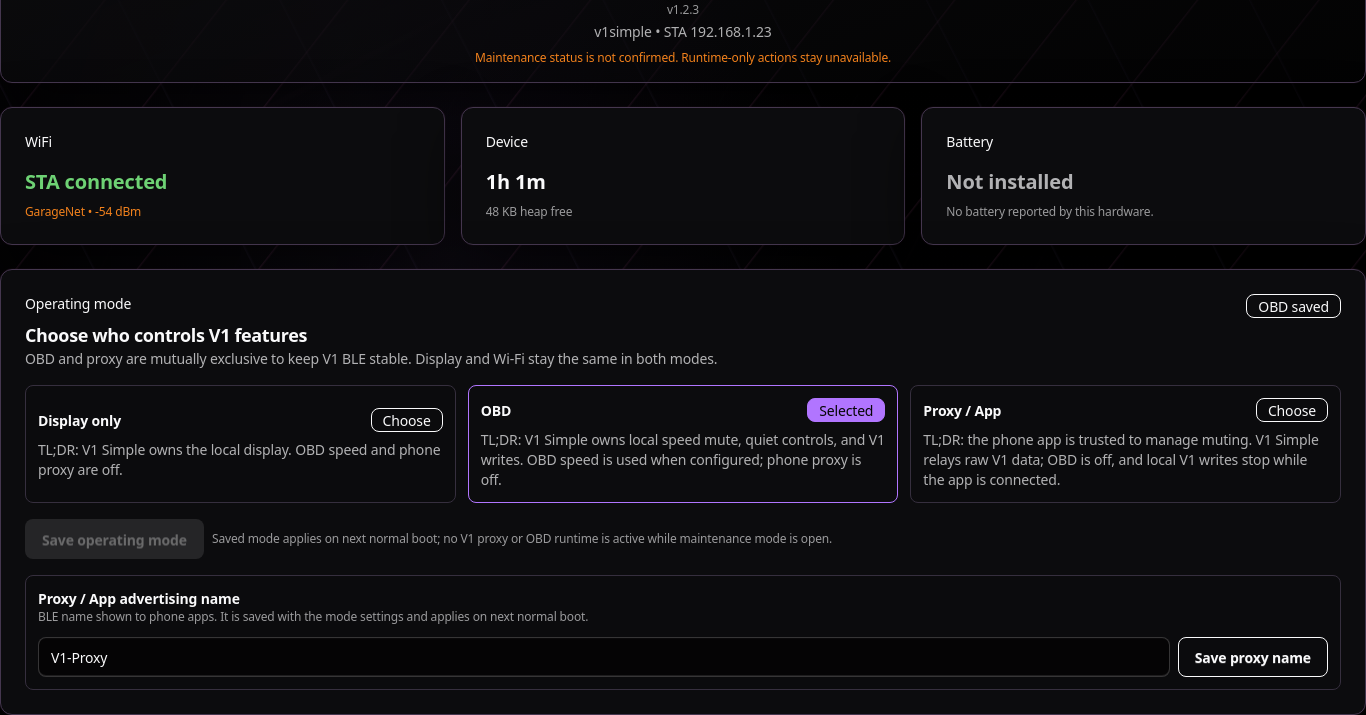
Test: dashboard route page › saves Proxy / App mode explicitly by disabling OBD before enabling proxy
The image size is (1366, 715).
(page scrolled)
Expected: the text "OBD saved" is shown, [1246,294,1341,318]
Click the button "Proxy / App": x=1126, y=444 [910,385,1341,503]
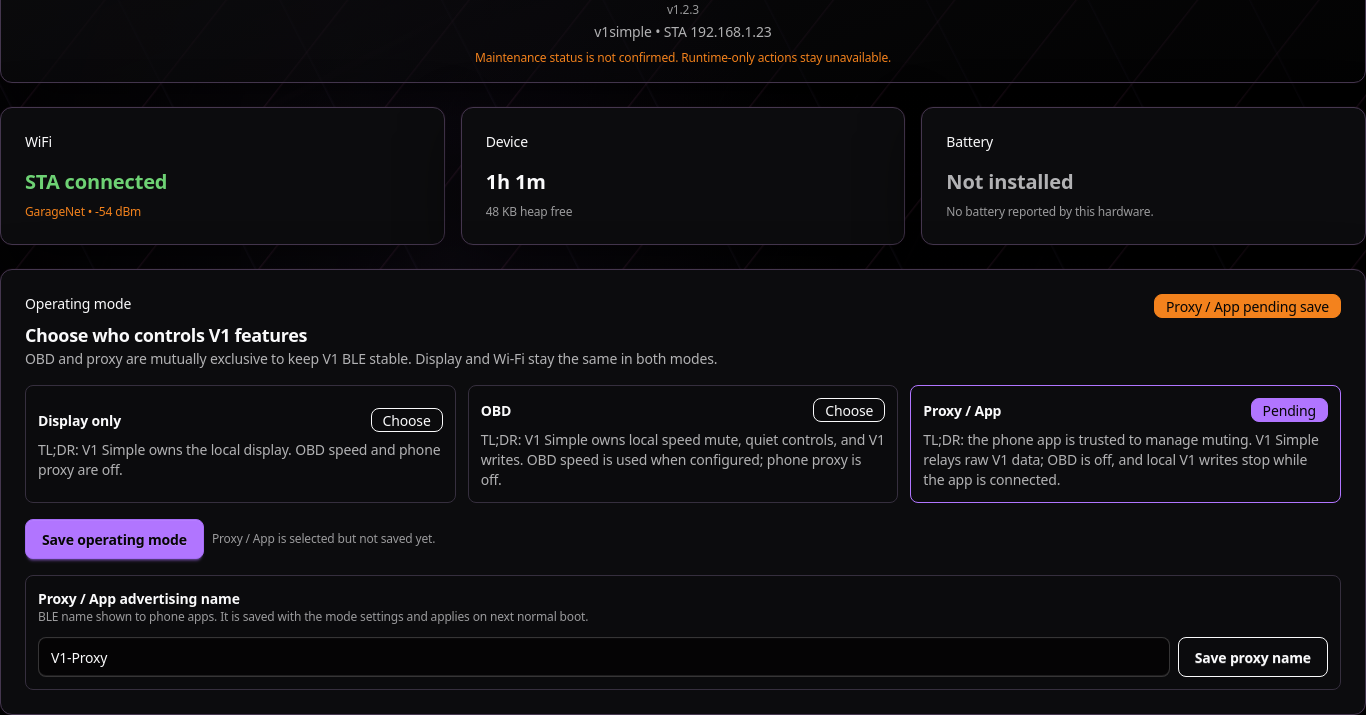
Result: the text "Proxy / App pending save" is shown at [1154,294,1341,318]
Result: the text "Proxy / App is selected but not saved yet." is shown at [212,530,435,547]
Click the button "Save operating mode": x=114, y=539 [25,519,204,559]
(page scrolled)
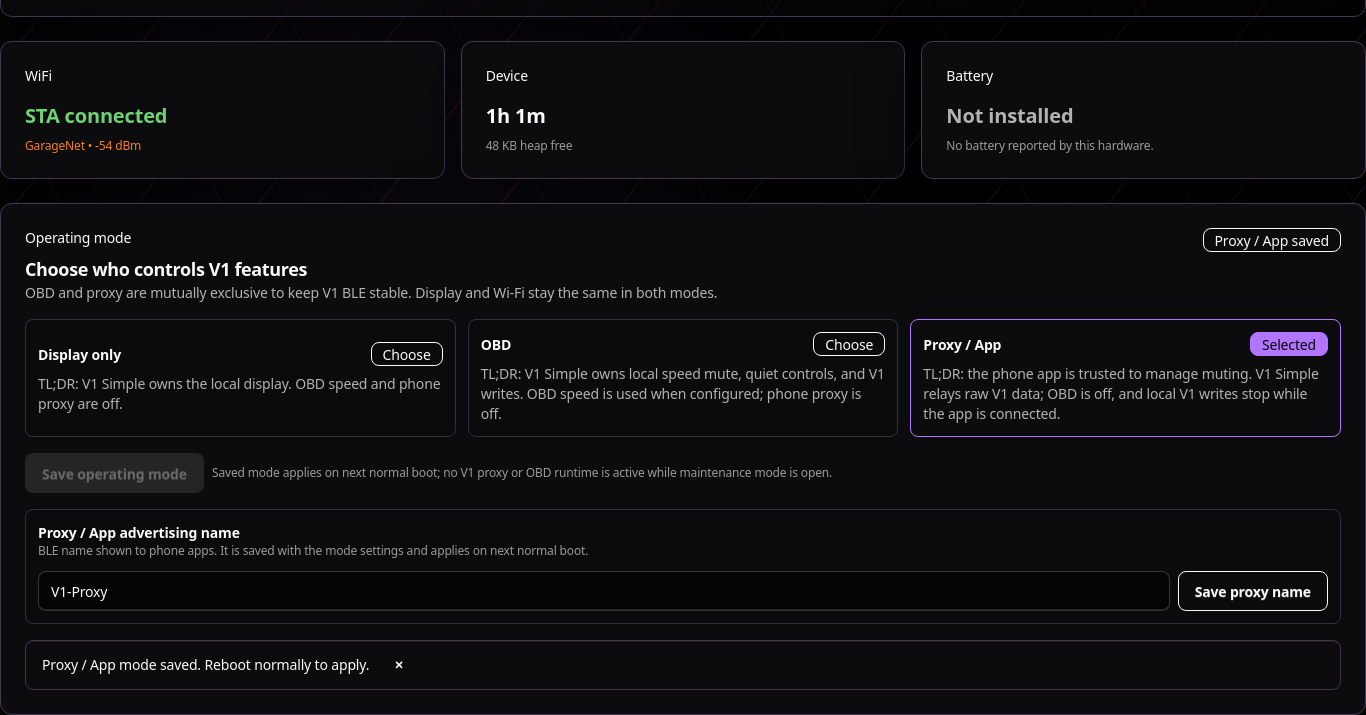
Result: the text "Proxy / App mode saved. Reboot normally to apply." is shown at [42,655,369,675]
Result: the text "Proxy / App saved" is shown at [1202,228,1341,252]
